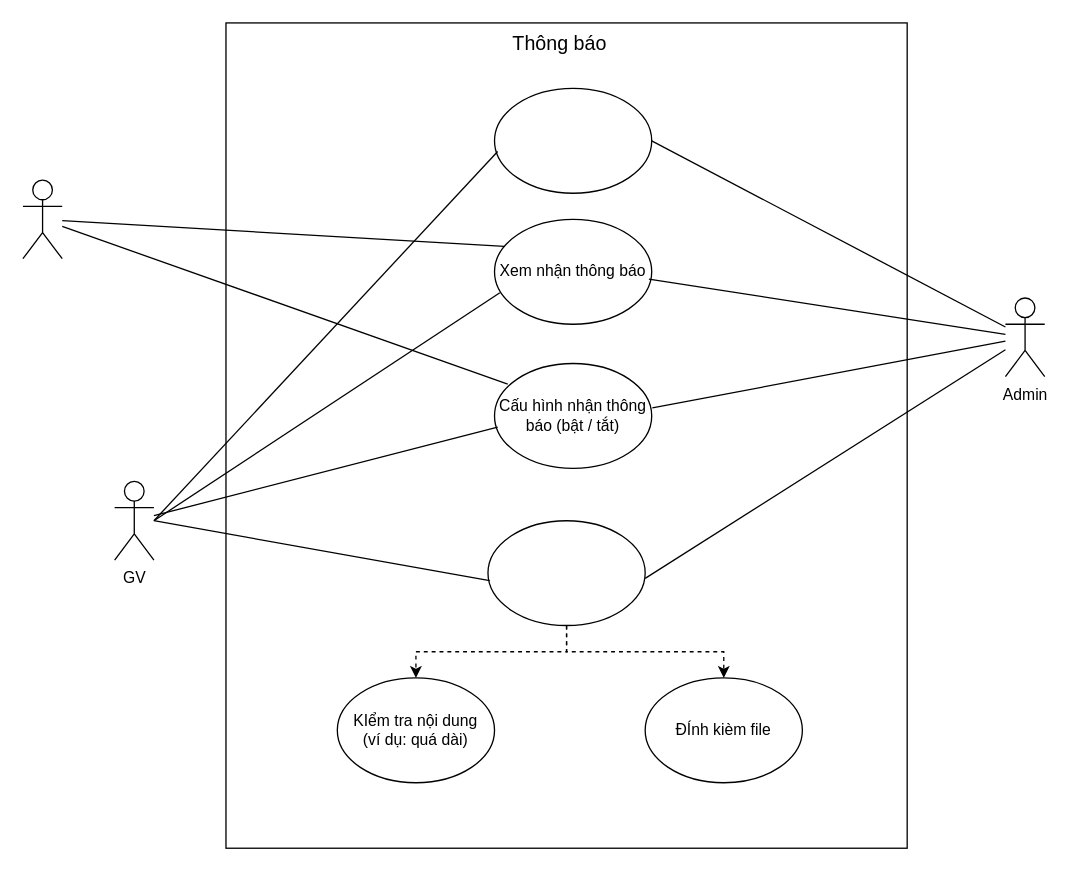
Image size: 1070x871. Some labels were removed from this diagram. Here are the shapes that lost their labels. From the top down, the centre of each, then its label:
the point at 572,140: Lên lịch gửi thông báo
the point at 42,219: SV
the point at 566,572: Gửi thông báo
